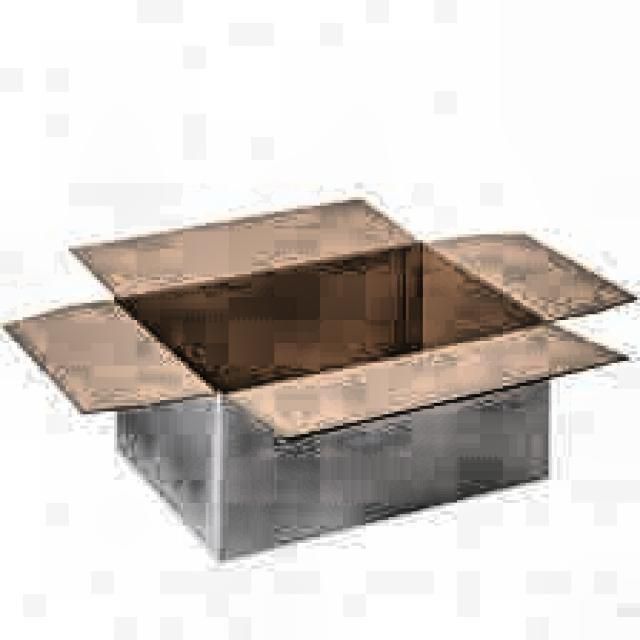cardboard: (0, 191, 637, 560)
